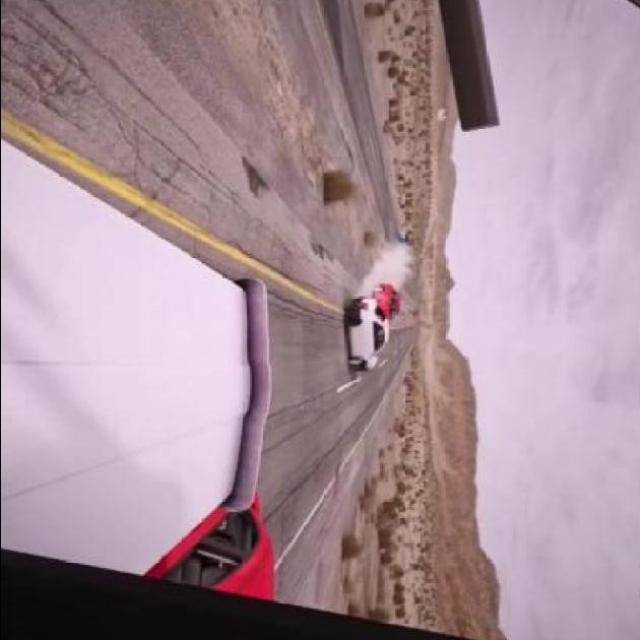accident: (327, 277, 419, 379)
